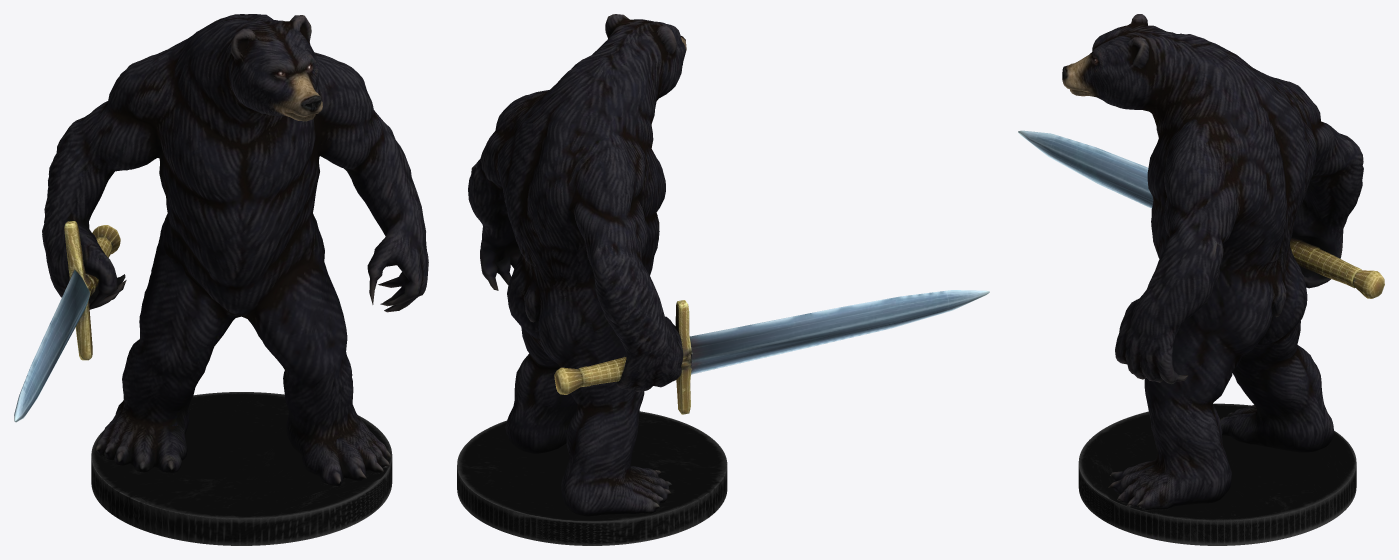
Rendered from MZ4250 - Werebear (Black).glb.
3 renders of one model, left to right at view 1: azimuth 30°, elevation 25°; view 2: azimuth 150°, elevation 25°; view 3: azimuth 270°, elevation 25°, orthographic. The views are drawn at different scales.
Parts seen in each view (by area): view 1: body_low.001, base_low.001, sword_low.001; view 2: body_low.001, base_low.001, sword_low.001; view 3: body_low.001, base_low.001, sword_low.001.
Part boxes in pixels (x1,y1,x2,y2): body_low.001: (42, 14, 428, 486); base_low.001: (91, 392, 392, 545); sword_low.001: (14, 221, 120, 422); body_low.001: (468, 14, 686, 516); base_low.001: (457, 411, 727, 545); sword_low.001: (554, 290, 989, 414); body_low.001: (1062, 14, 1363, 509); base_low.001: (1078, 403, 1356, 545); sword_low.001: (1018, 130, 1384, 298).
Size of the model in its own units: 6.69 by 6.48 by 4.72.
Materials: 1 (1 with a texture image).
